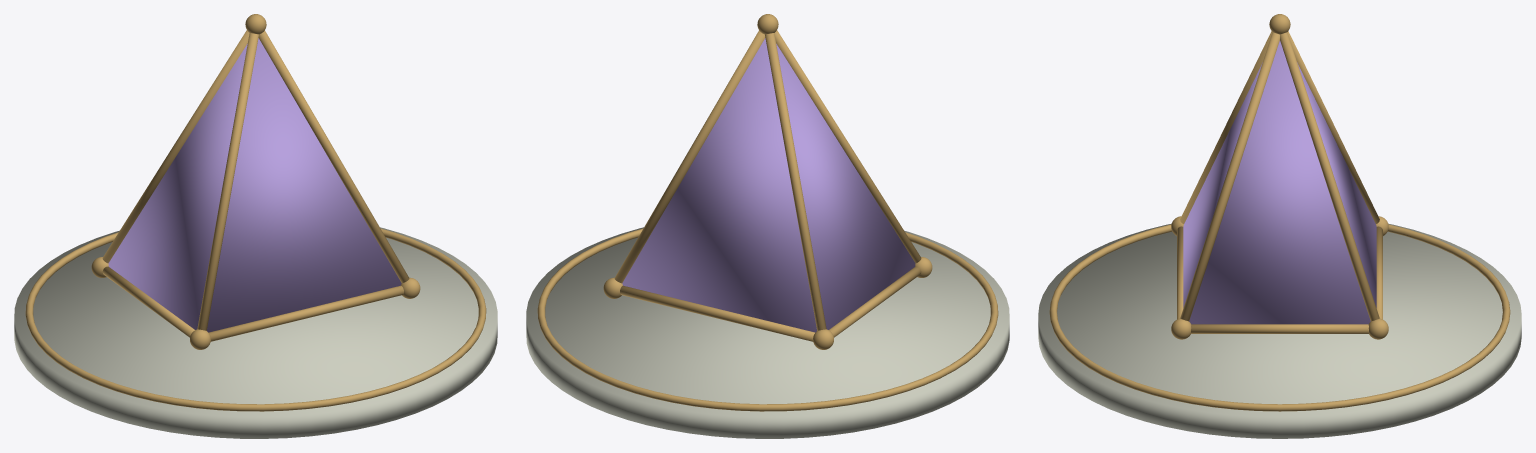
The model's file is mathematics.glb.
The picture shows the model from 3 angles, left to right: view 1: azimuth 30°, elevation 25°; view 2: azimuth 150°, elevation 25°; view 3: azimuth 270°, elevation 25°; orthographic projection.
Parts seen in each view (by area): view 1: Limestone plinth, Square pyramid, Brass inlay, Pyramid edge.004, Pyramid edge.005, Pyramid edge.007, Pyramid edge, Pyramid edge.003; view 2: Limestone plinth, Square pyramid, Brass inlay, Pyramid edge.007, Pyramid edge.006, Pyramid edge.004, Pyramid edge.002, Pyramid edge.003; view 3: Limestone plinth, Square pyramid, Brass inlay, Pyramid edge.005, Pyramid edge.006, Pyramid edge.001, Pyramid edge.004, Pyramid edge.007, Pyramid edge, Pyramid edge.002.
Boxes of the visible parts, bbox=[...] form: Limestone plinth: bbox=[14, 227, 497, 438]; Square pyramid: bbox=[108, 38, 401, 332]; Brass inlay: bbox=[25, 228, 486, 411]; Pyramid edge.004: bbox=[197, 33, 258, 330]; Pyramid edge.005: bbox=[258, 30, 409, 283]; Pyramid edge.007: bbox=[102, 30, 249, 263]; Pyramid edge: bbox=[209, 285, 403, 341]; Pyramid edge.003: bbox=[102, 266, 194, 337]; Limestone plinth: bbox=[526, 227, 1009, 438]; Square pyramid: bbox=[622, 38, 915, 332]; Brass inlay: bbox=[537, 228, 998, 411]; Pyramid edge.007: bbox=[765, 33, 826, 330]; Pyramid edge.006: bbox=[614, 30, 765, 283]; Pyramid edge.004: bbox=[774, 30, 921, 263]; Pyramid edge.002: bbox=[620, 285, 814, 341]; Pyramid edge.003: bbox=[829, 266, 921, 337]; Limestone plinth: bbox=[1038, 223, 1521, 438]; Square pyramid: bbox=[1183, 41, 1376, 324]; Brass inlay: bbox=[1049, 224, 1510, 411]; Pyramid edge.005: bbox=[1180, 32, 1279, 321]; Pyramid edge.006: bbox=[1280, 32, 1379, 321]; Pyramid edge.001: bbox=[1191, 324, 1368, 333]; Pyramid edge.004: bbox=[1180, 31, 1272, 223]; Pyramid edge.007: bbox=[1287, 31, 1379, 223]; Pyramid edge: bbox=[1177, 226, 1183, 319]; Pyramid edge.002: bbox=[1376, 226, 1382, 319].
Bounding box in the file's own units: 3.2 × 2.35 × 3.2.
